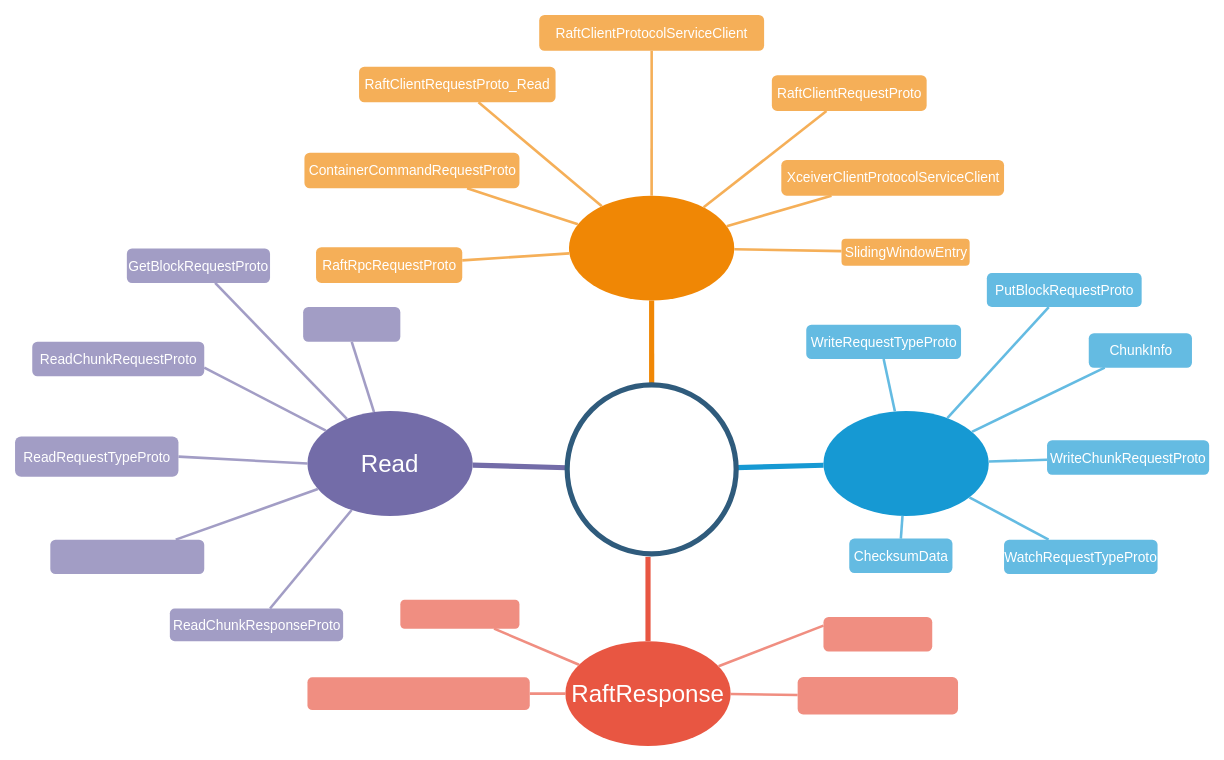
This 1224x760 diagram has some shape labels left out. Each missing label, with the box of its shape:
BlockData: (303, 307, 400, 341)
ClientMessageEntryProto: (797, 677, 958, 714)
CommitInfoProto: (823, 617, 932, 651)
ContainerCommandResponseProto: (307, 677, 529, 710)
GetBlockResponseProto: (50, 539, 204, 574)
RaftClient: (564, 382, 738, 556)
RaftRequest: (569, 195, 734, 300)
RaftRpcReplyProto: (400, 599, 519, 628)
Write: (823, 411, 988, 516)
